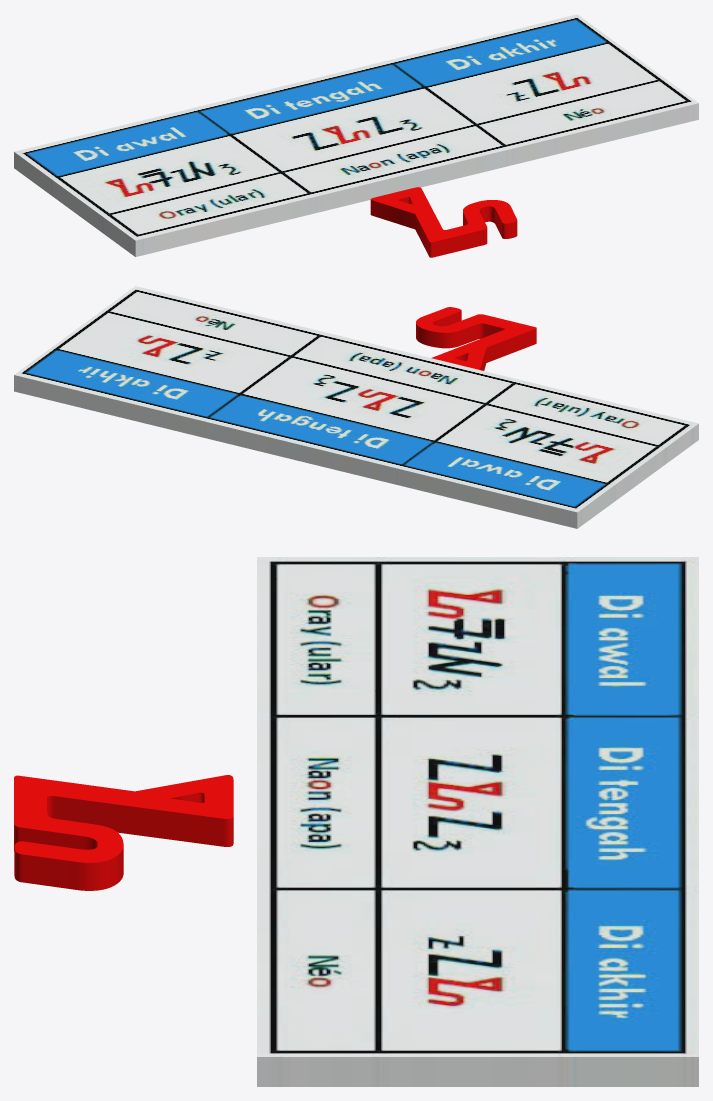
The picture shows the model from 3 angles, top to bottom: view 1: azimuth 30°, elevation 25°; view 2: azimuth 150°, elevation 25°; view 3: azimuth 270°, elevation 25°; orthographic projection. The views are drawn at different scales.
Parts seen in each view (by area): view 1: contoh-bunyi-huruf-o-Swara-vokal-mandiri, Text; view 2: contoh-bunyi-huruf-o-Swara-vokal-mandiri, Text; view 3: contoh-bunyi-huruf-o-Swara-vokal-mandiri, Text.
Part boxes in pixels (x1,y1,x2,y2): contoh-bunyi-huruf-o-Swara-vokal-mandiri: (14, 14, 698, 256); Text: (370, 187, 517, 257); contoh-bunyi-huruf-o-Swara-vokal-mandiri: (14, 286, 698, 528); Text: (416, 307, 536, 370); contoh-bunyi-huruf-o-Swara-vokal-mandiri: (257, 557, 698, 1086); Text: (14, 775, 233, 890).
Size of the model in its own units: 2.68 by 0.11 by 1.55.
2 materials, 1 textured.
